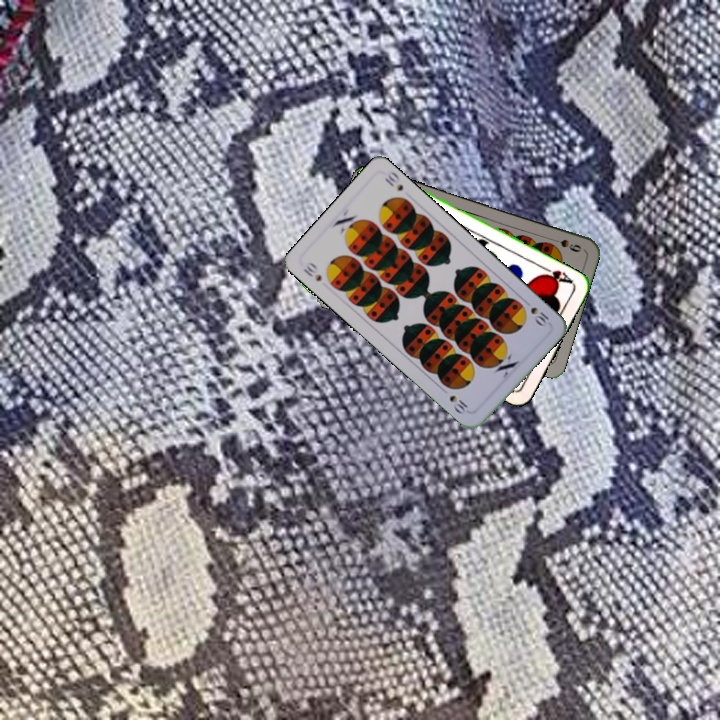HA: (537, 262, 576, 287)
S10: (519, 295, 552, 329), (299, 258, 324, 284)
S9: (546, 233, 584, 255)
